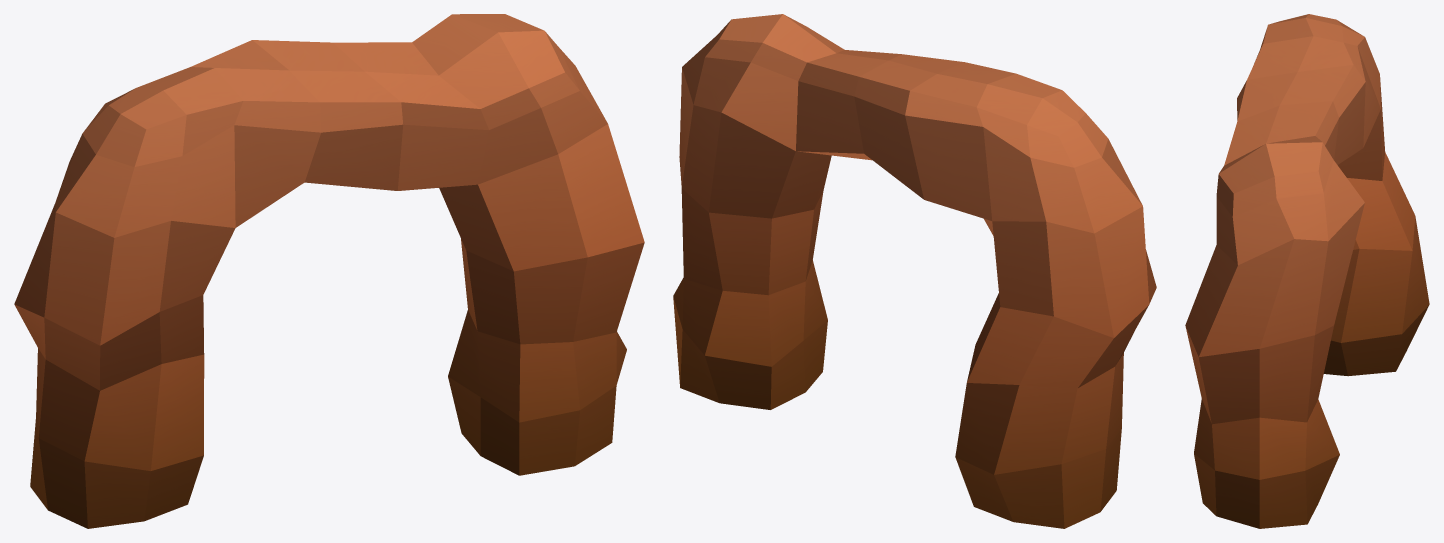
The model's file is rock4.fbx.
The picture shows the model from 3 angles, left to right: view 1: azimuth 30°, elevation 25°; view 2: azimuth 150°, elevation 25°; view 3: azimuth 270°, elevation 25°; orthographic projection. The views are drawn at different scales.
Parts seen in each view (by area): view 1: Cube.003; view 2: Cube.003; view 3: Cube.003.
Part boxes in pixels (<box>): Cube.003: <box>14,14,644,528</box>; Cube.003: <box>673,14,1156,528</box>; Cube.003: <box>1185,14,1429,528</box>.
Size of the model in its own units: 554 by 403 by 255.
